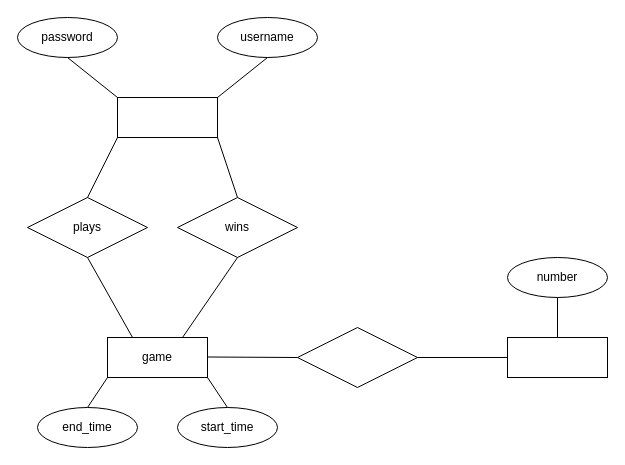
Image size: 625x465. Some labels were removed from this diagram. Each missing label, with the centre of its shape:
has: the point at 357,357
round: the point at 557,357
user: the point at 167,117
